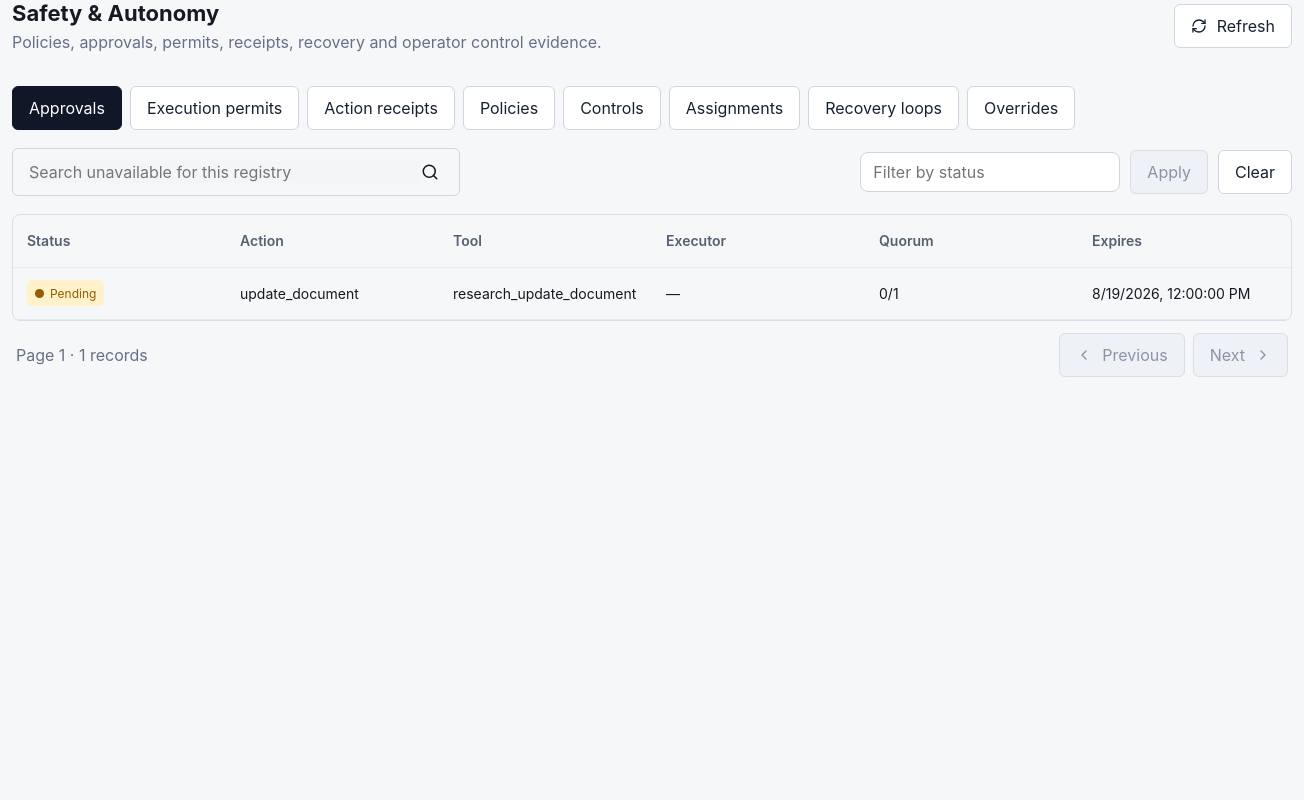
Test case: routes AFFiNE approvals to native notifications without gateway decision controls
Click the text "update_document" at (332, 293), box [226, 267, 439, 319]
(page scrolled)
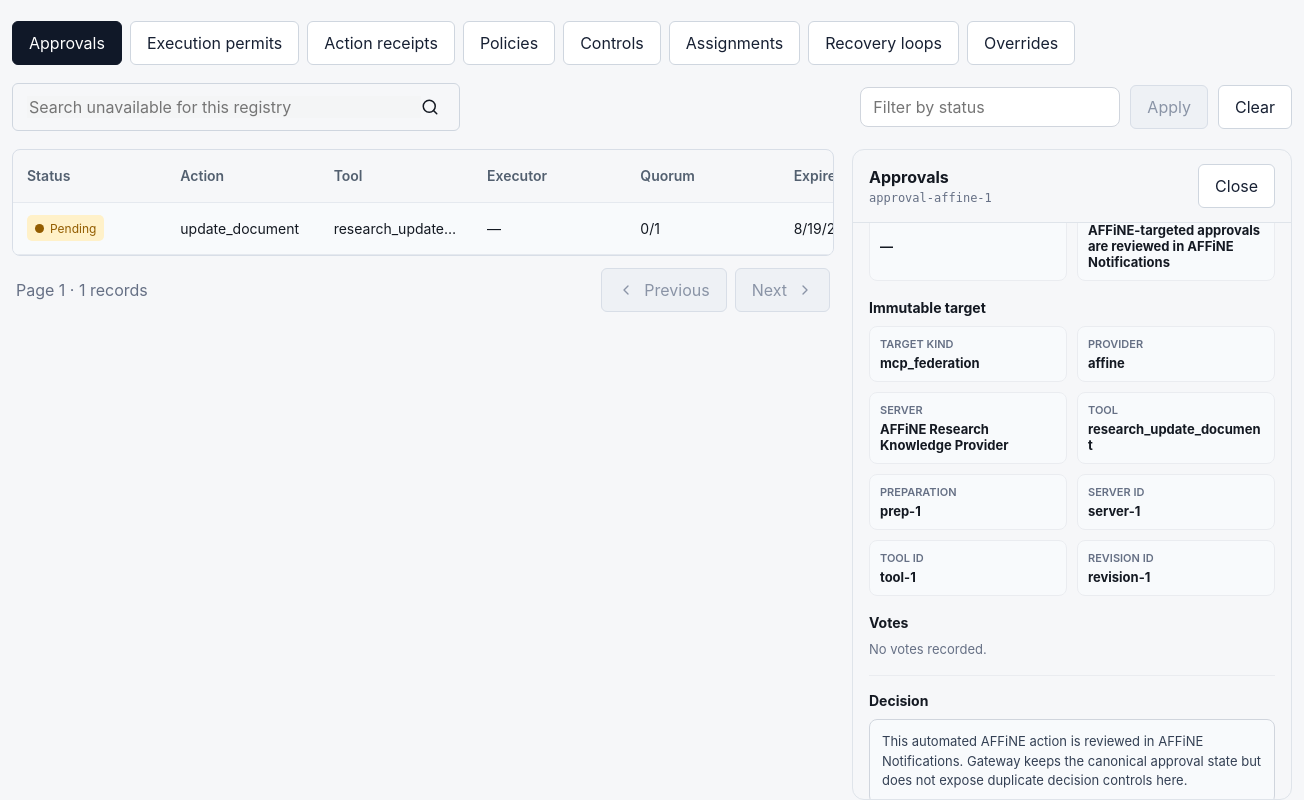
Now the text "reviewed in AFFiNE Notifications" is shown, box [1088, 223, 1263, 270]
Now the text "prep-1" is shown, box [880, 503, 921, 519]
